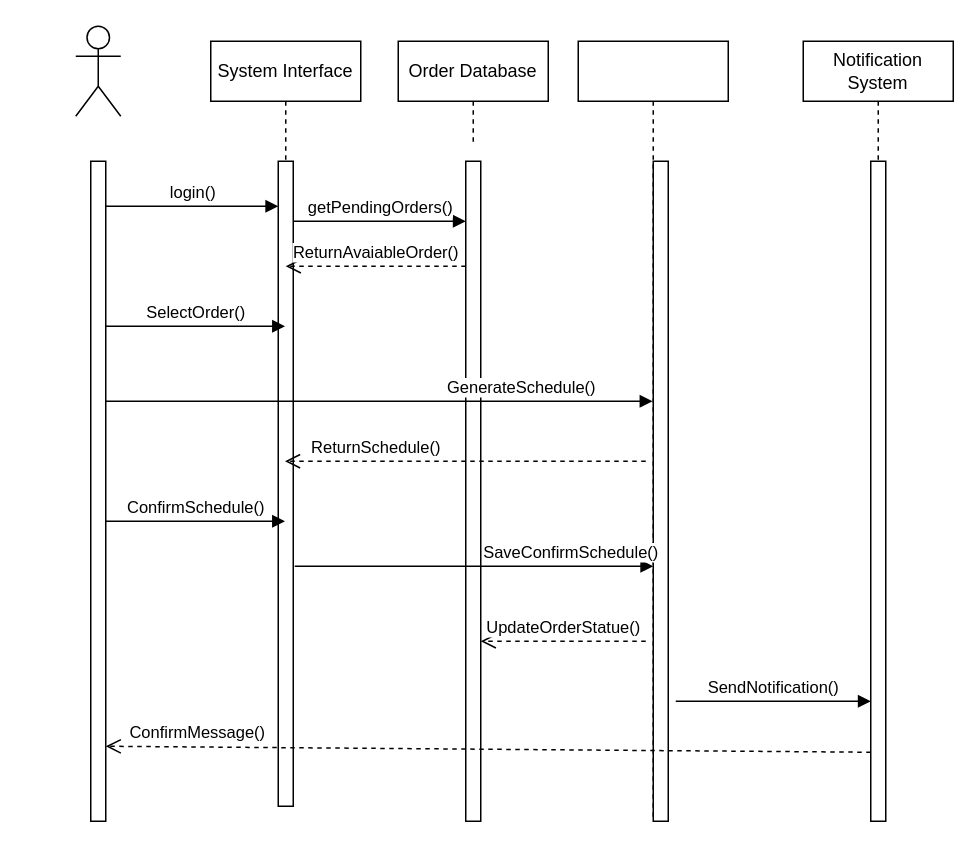
The diagram is 980 pixels wide and 848 high, and some of its shapes have lost their labels. The centre of each missing label's shape, as x and y in pixels:
"Delivery Module" goes at (x=652, y=430).
"Logistics Manager" goes at (x=97, y=70).
